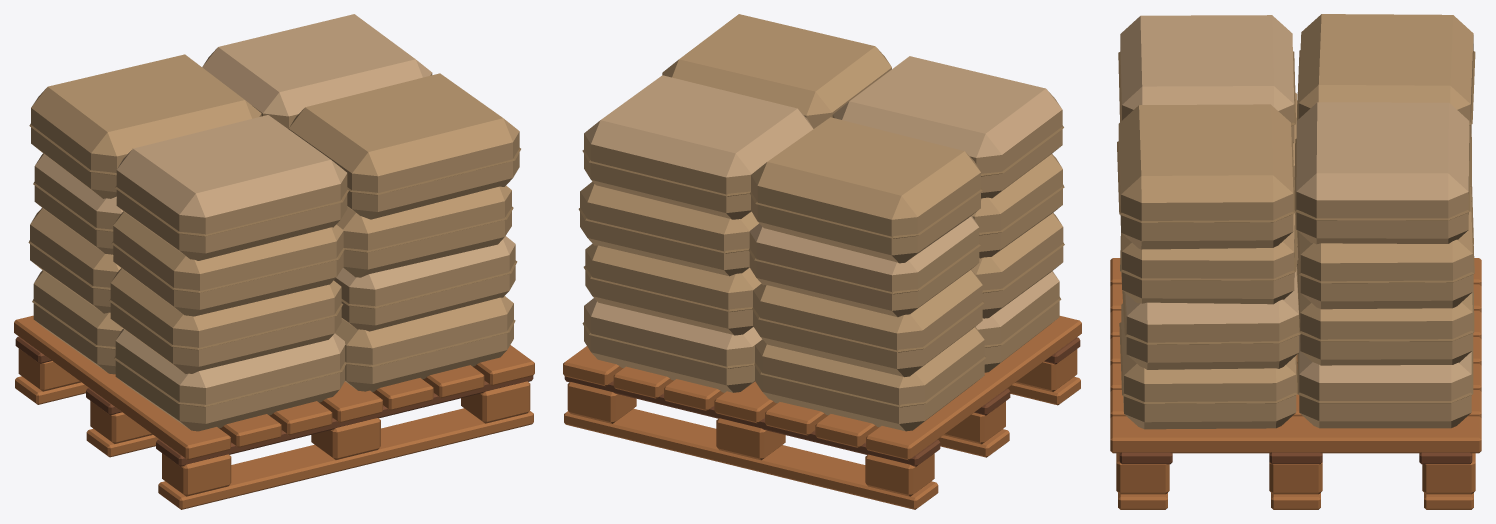
3 views of the same model, side by side, from view 1: azimuth 30°, elevation 25°; view 2: azimuth 150°, elevation 25°; view 3: azimuth 270°, elevation 25° (orthographic). The views are drawn at different scales.
Parts seen in each view (by area): view 1: body, pal_khakiLight, pal_woodWarm, pal_khakiSeam, pal_leatherShadow; view 2: body, pal_khakiLight, pal_woodWarm, pal_khakiSeam, pal_leatherShadow; view 3: body, pal_khakiLight, pal_woodWarm, pal_khakiSeam, pal_leatherShadow.
Boxes of the visible parts, x1,y1,x2,y2 form: body: (30,54,519,431); pal_khakiLight: (35,14,515,387); pal_woodWarm: (14,315,534,509); pal_khakiSeam: (28,123,520,407); pal_leatherShadow: (15,336,533,466); body: (580,14,1063,431); pal_khakiLight: (584,56,1062,349); pal_woodWarm: (563,316,1081,509); pal_khakiSeam: (578,125,1064,407); pal_leatherShadow: (564,337,1080,466); body: (1118,14,1473,429); pal_khakiLight: (1120,15,1471,382); pal_woodWarm: (1110,258,1481,509); pal_khakiSeam: (1117,50,1475,404); pal_leatherShadow: (1119,452,1472,464).
Size of the model in its own units: 1.4 by 1.15 by 1.19.
